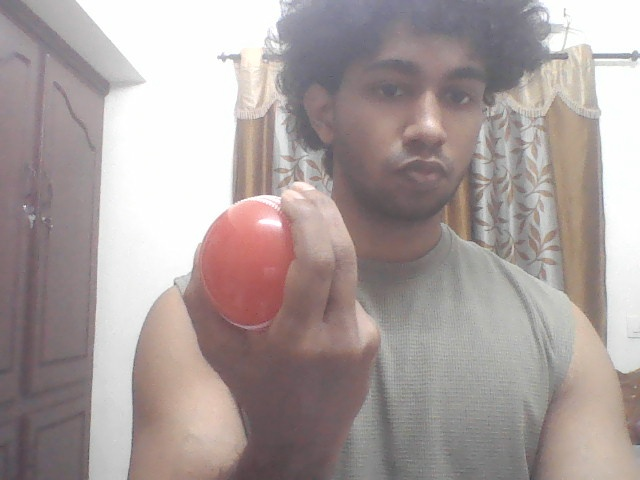cricket_ball: (197, 195, 288, 331)
